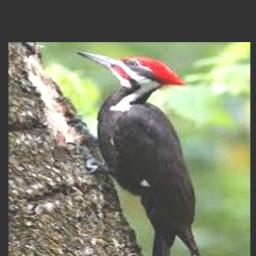Woodpecker: (75, 50, 199, 256)
